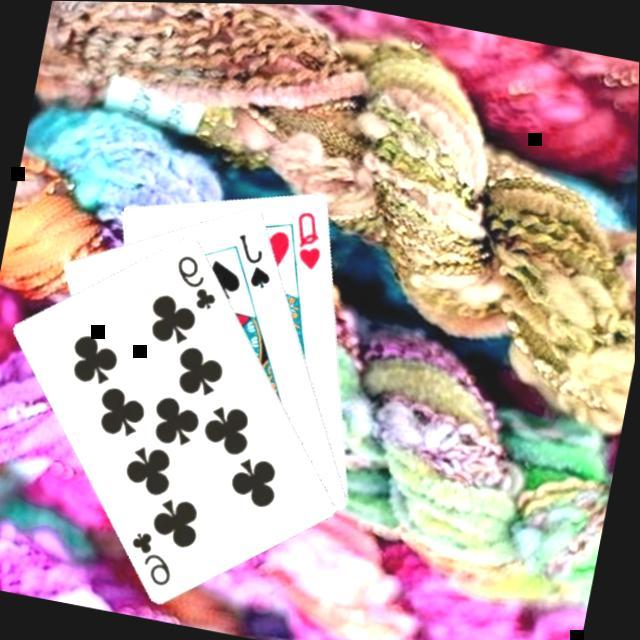9C: (123, 525, 185, 591), (168, 249, 229, 316)
JS: (228, 229, 284, 293)
QH: (287, 205, 334, 273)
